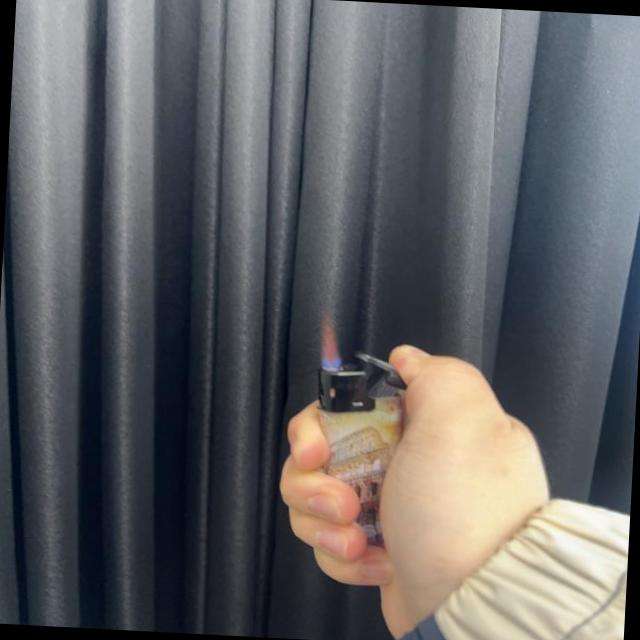Fire: (315, 306, 347, 372)
